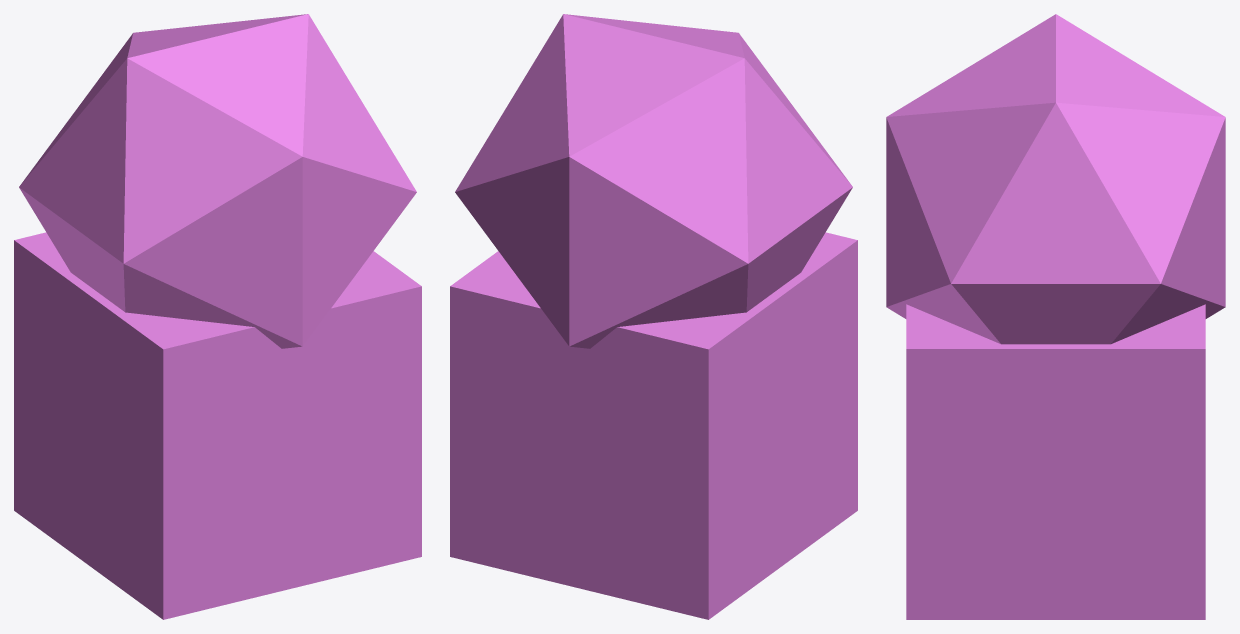
File: baoshi_cube.gltf
3 views of the same model, side by side, from view 1: azimuth 30°, elevation 25°; view 2: azimuth 150°, elevation 25°; view 3: azimuth 270°, elevation 25° (orthographic).
Visible parts, largest first — view 1: 宝石.1; view 2: 宝石.1; view 3: 宝石.1.
Boxes of the visible parts, <box> form: 宝石.1: <box>14,14,421,619</box>; 宝石.1: <box>450,14,857,619</box>; 宝石.1: <box>886,14,1225,619</box>.
Bounding box in the file's own units: 56.76 × 91.98 × 56.76.
